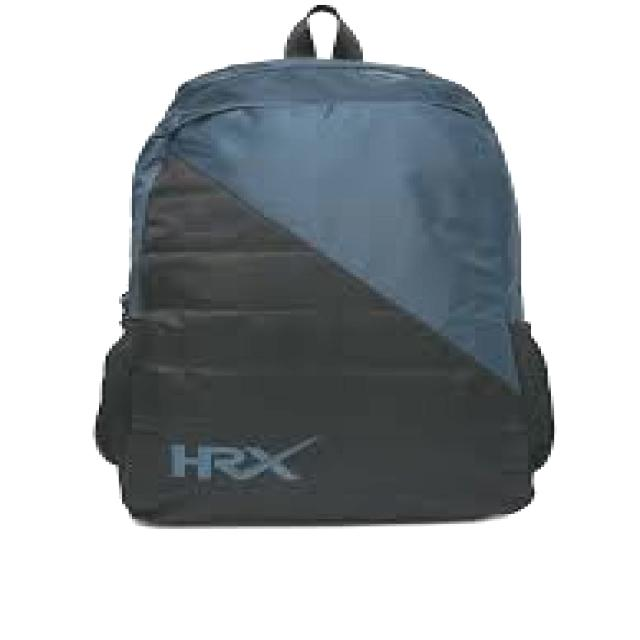backpack: (94, 4, 556, 528)
